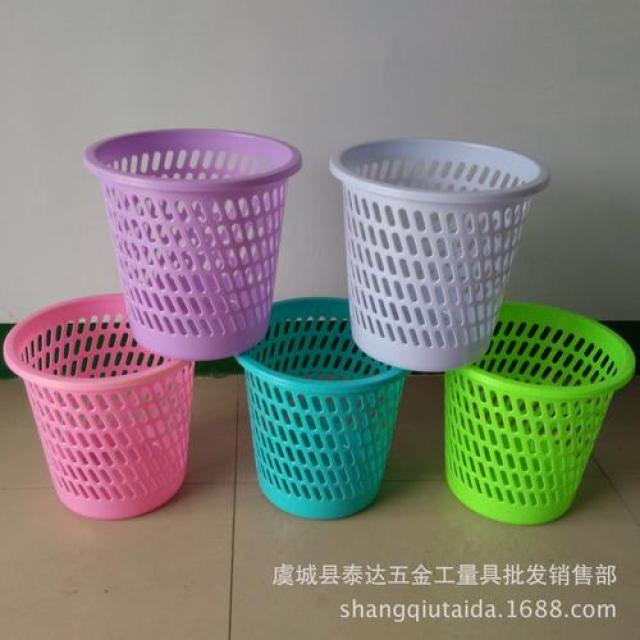dustbin: (323, 130, 555, 371), (78, 121, 304, 361), (437, 295, 638, 527), (3, 290, 199, 525), (230, 289, 412, 524)
